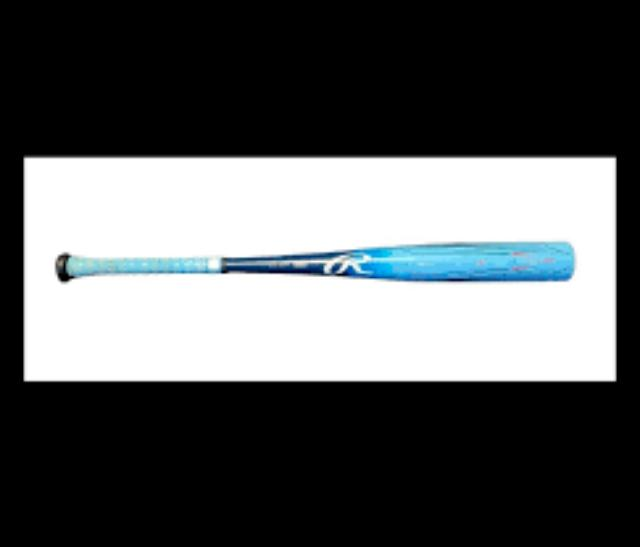baseball bat: (52, 240, 574, 282)
